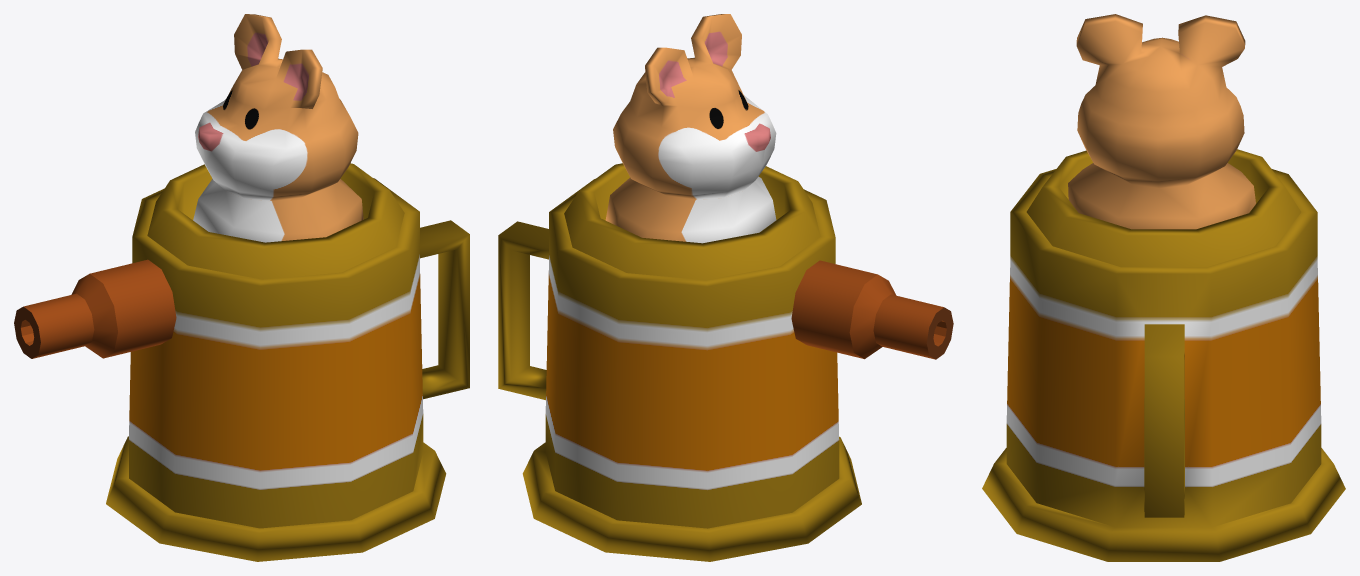
File: GoldHamTurret.obj
3 renders of one model, left to right at view 1: azimuth 30°, elevation 25°; view 2: azimuth 150°, elevation 25°; view 3: azimuth 270°, elevation 25°, orthographic. The views are drawn at different scales.
Parts seen in each view (by area): view 1: polySurface6, polySurface5, polySurface4; view 2: polySurface6, polySurface5, polySurface4; view 3: polySurface6, polySurface5.
Part boxes in pixels (x1=…): polySurface6: x1=106, y1=163, x2=469, y2=561; polySurface5: x1=193, y1=14, x2=363, y2=242; polySurface4: x1=14, y1=259, x2=176, y2=358; polySurface6: x1=498, y1=163, x2=861, y2=561; polySurface5: x1=605, y1=14, x2=776, y2=243; polySurface4: x1=791, y1=260, x2=953, y2=359; polySurface6: x1=982, y1=149, x2=1345, y2=561; polySurface5: x1=1068, y1=14, x2=1255, y2=229.
Bounding box in the file's own units: 3.22 × 3.24 × 2.24.
